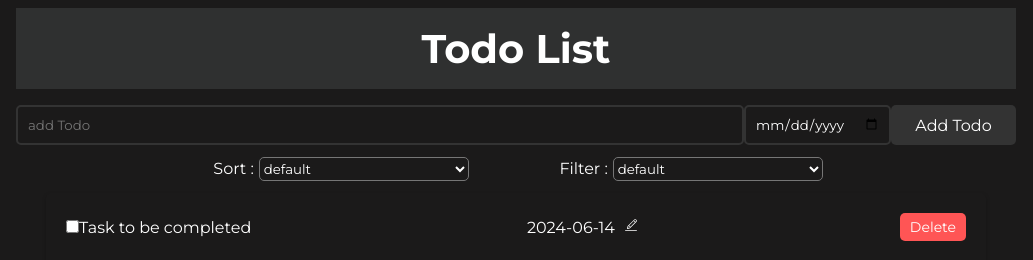
edit-> add new todo, cancel editing
This screenshot has width=1033, height=260.
Click the icon named "start editing": (631, 225) [623,217,639,233]
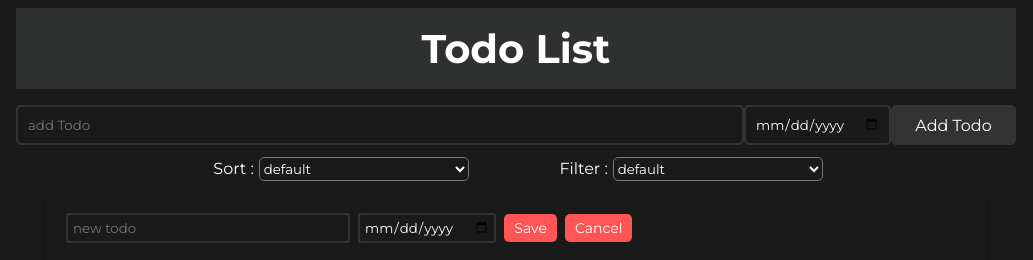
In the field with placeholder "new todo": (208, 228) [66,213,350,243], type "New Todo added"
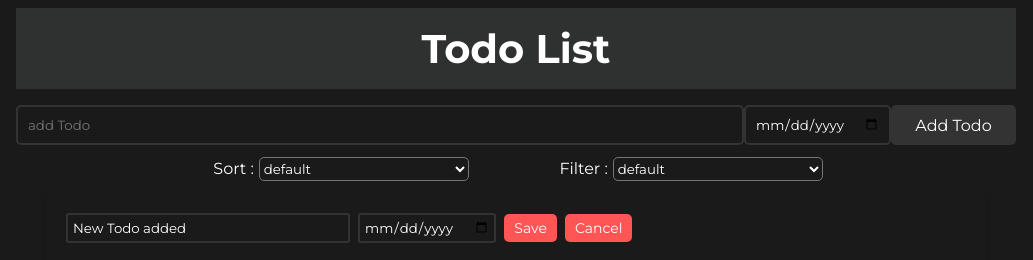
Click the button "Save": (531, 228) [504,214,557,242]
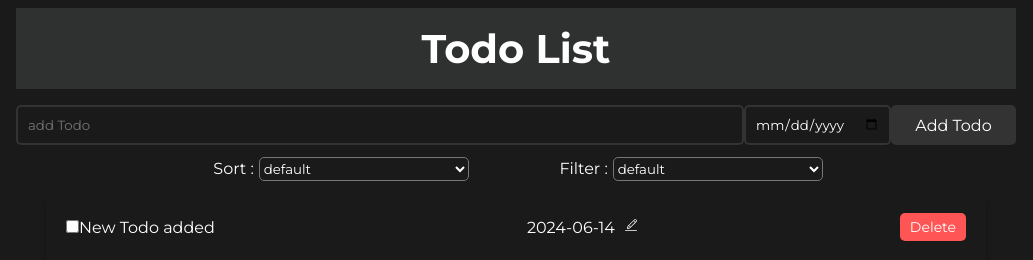
Expected: the text "New Todo added" is shown, [66,218,266,236]
Click the icon named "start editing": (631, 225) [623,217,639,233]
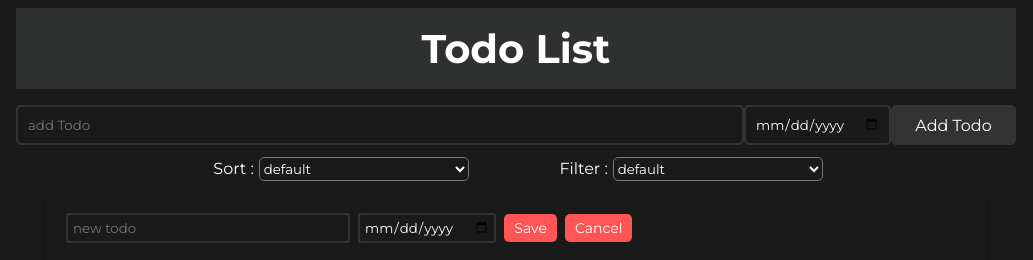
Click the button "Cancel": (599, 228) [565,214,632,242]
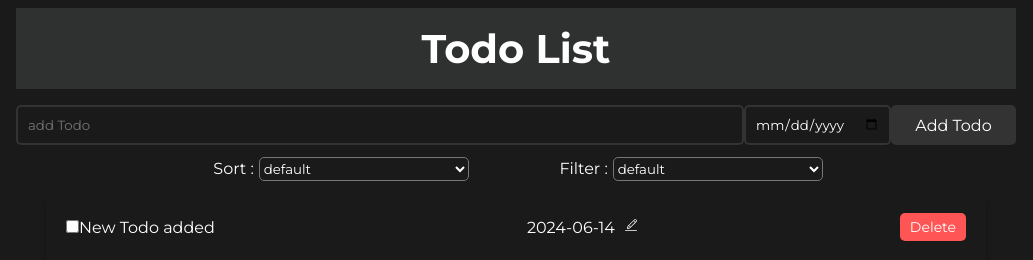
Expected: the text "New Todo added" is shown, [66,218,266,236]
Click the button "Delete": (933, 227) [900,213,966,241]
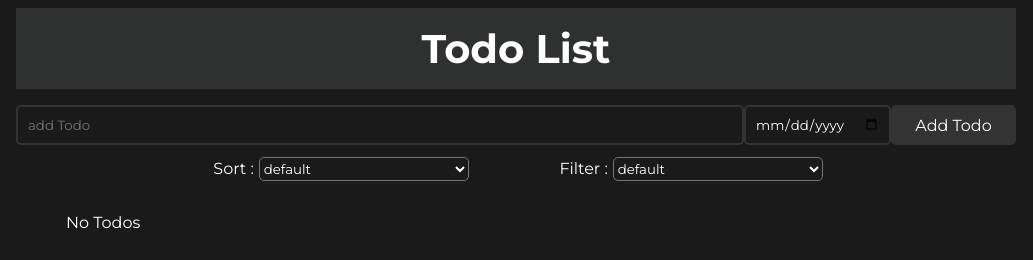
Expected: the text "New Todo added" is gone
